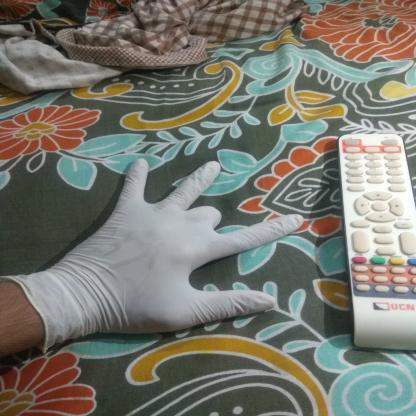gloved_hand: (4, 154, 306, 371)
